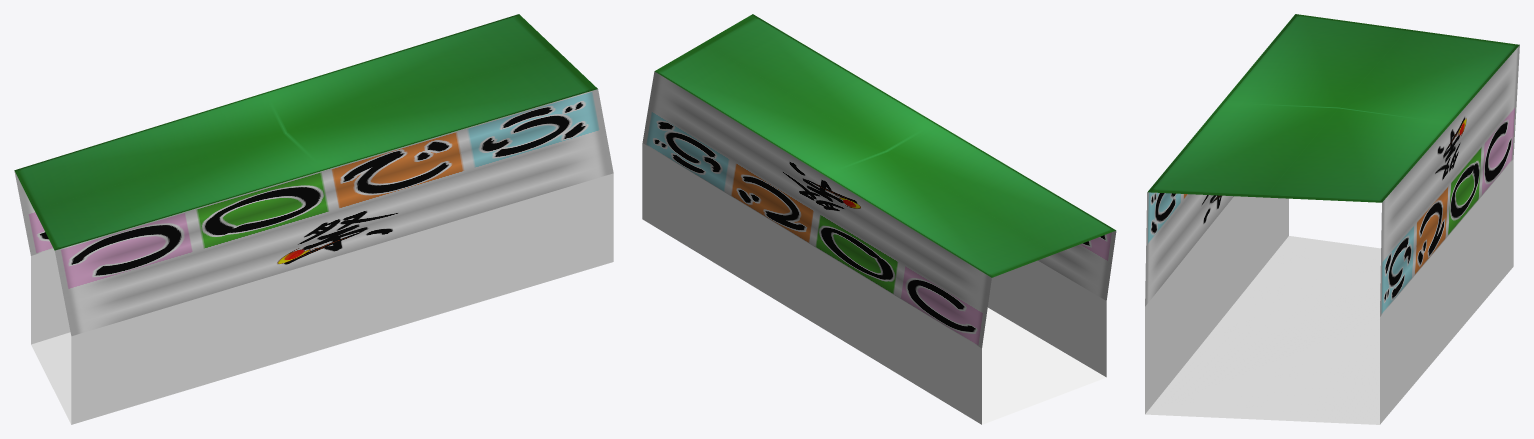
File: CourseWinter_Wall_L_17_9.fbx
The picture shows the model from 3 angles, left to right: view 1: azimuth 30°, elevation 25°; view 2: azimuth 150°, elevation 25°; view 3: azimuth 270°, elevation 25°; orthographic projection. The views are drawn at different scales.
Visible parts, largest first — view 1: polySurface614; view 2: polySurface614; view 3: polySurface614.
Boxes of the visible parts, x1=… form: polySurface614: x1=14, y1=14, x2=613, y2=424; polySurface614: x1=642, y1=14, x2=1116, y2=424; polySurface614: x1=1145, y1=14, x2=1519, y2=424.
Size of the model in its own units: 6.08 by 2.98 by 3.16.
Materials: 1 (1 with a texture image).
